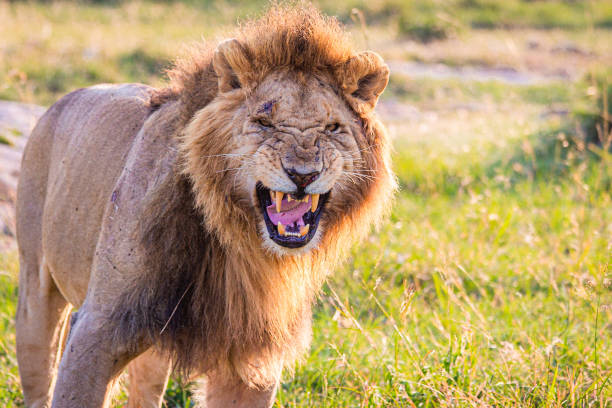lion: (143, 4, 408, 394)
